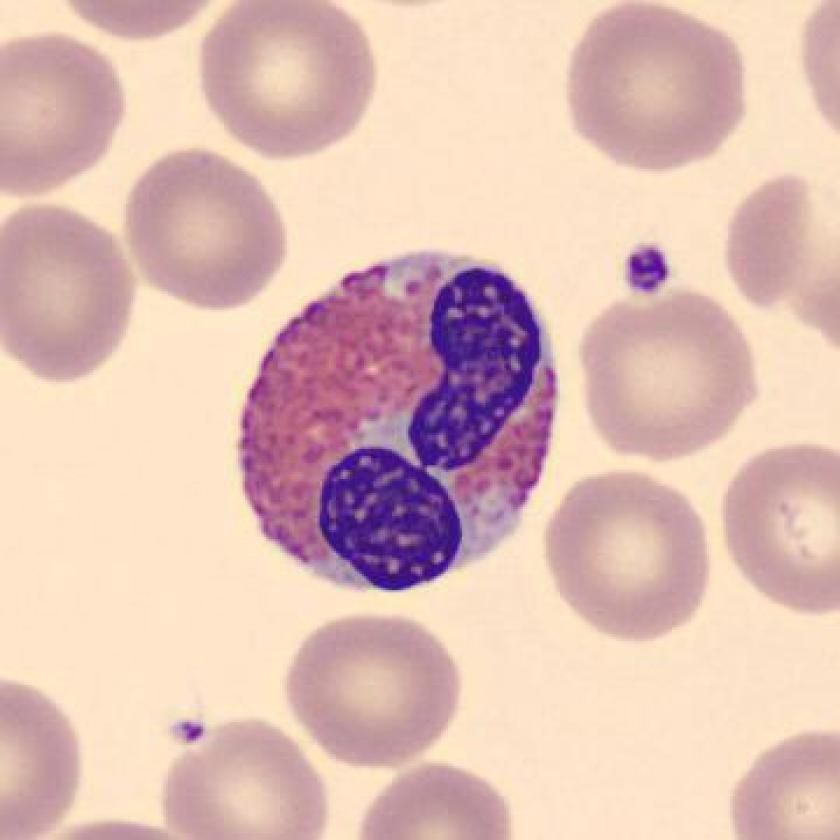eosinophil: (232, 235, 570, 605)
